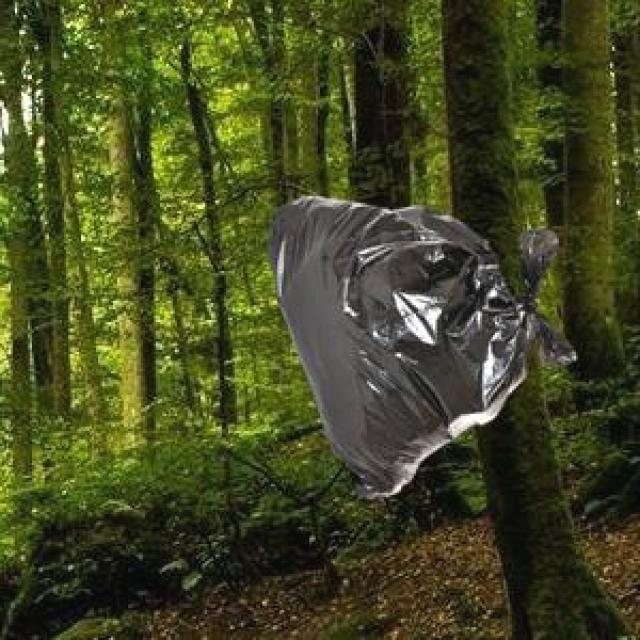Trashbag: (261, 194, 580, 503)
